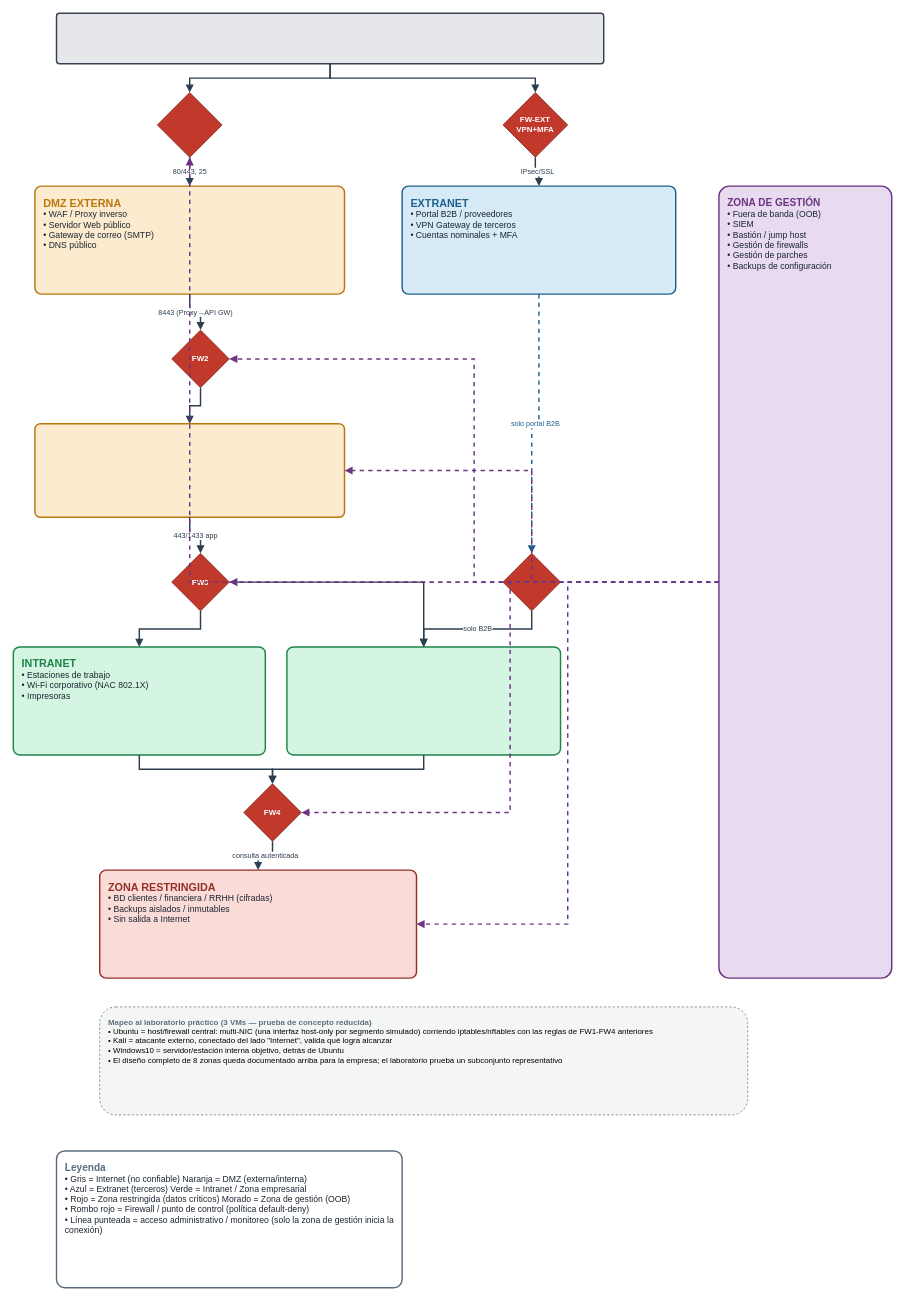
The diagram is 904 pixels wide and 1300 high, and some of its shapes have lost their labels. The box of each missing label's shape, as (x1, y1, x2, y2) in pixels:
DMZ INTERNA • Servidores de aplicación • API Gateway: (34, 423, 345, 518)
FW-EXT → ZE: (502, 553, 561, 611)
FW1 Perimetral: (157, 92, 222, 157)
INTERNET (no confiable): (55, 12, 604, 64)
ZONA EMPRESARIAL • ERP • CRM • Servidor de archivos: (286, 646, 561, 755)
